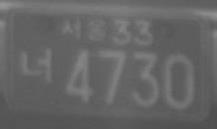0: (162, 51, 197, 112)
3: (130, 50, 160, 109), (110, 17, 133, 48), (134, 18, 156, 47)
4: (64, 47, 96, 105)
7: (96, 49, 127, 106)
너: (18, 45, 54, 85)
서울_O: (59, 13, 107, 45)
